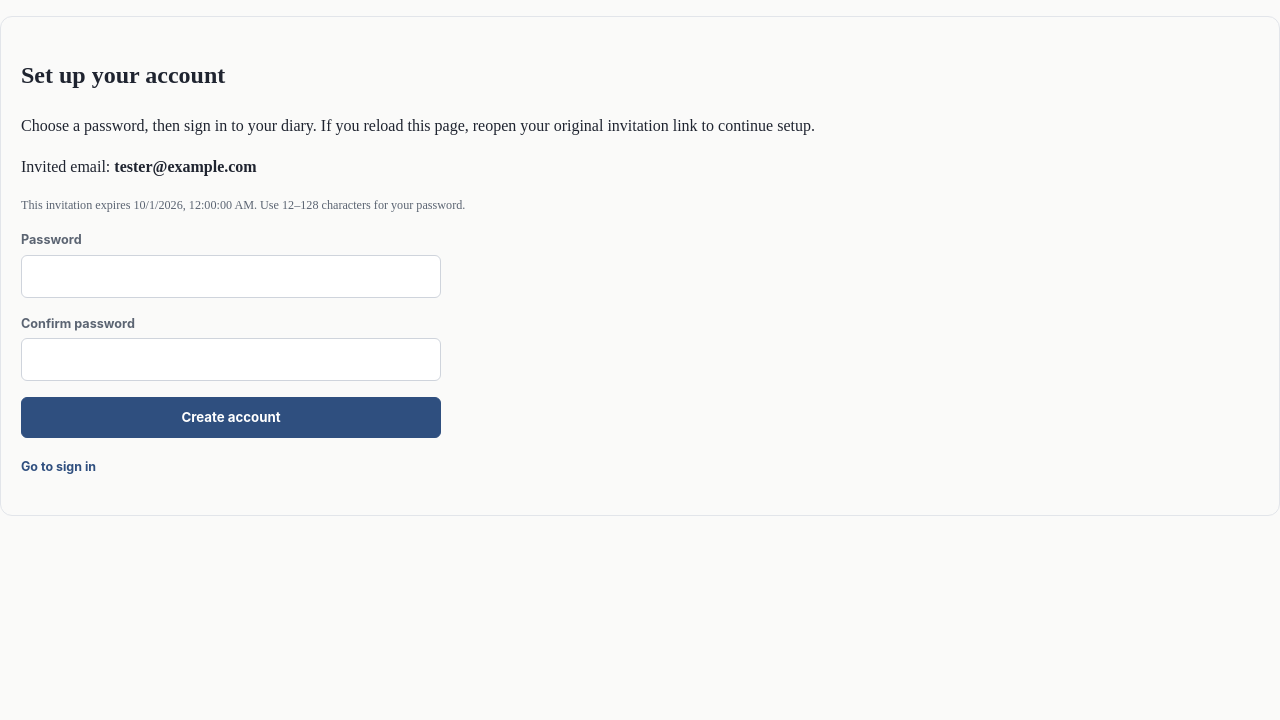
Scenario: validates password length and confirmation before accepting
Expected: the button "Create account" is shown, [21, 397, 441, 438]
Type "short" into the password field labelled "Password" at [231, 276], box [21, 255, 441, 298]
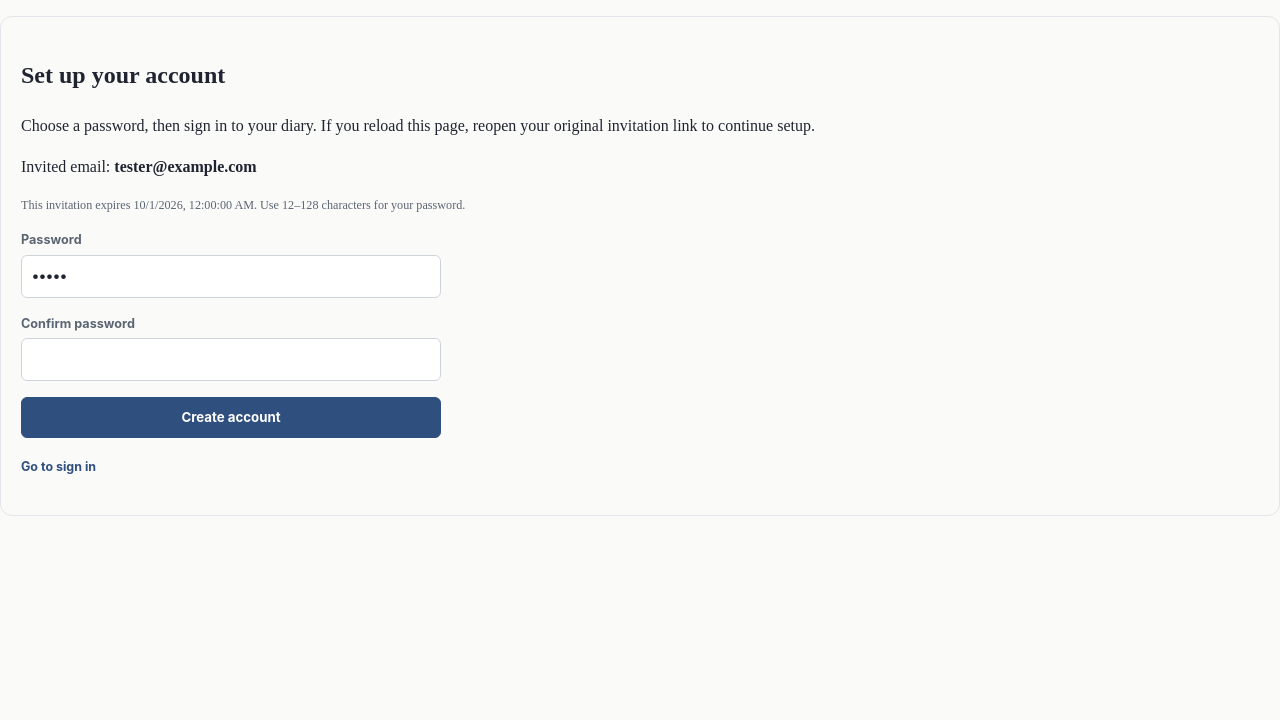
Type "short" into the password field labelled "Confirm password" at [231, 360], box [21, 338, 441, 381]
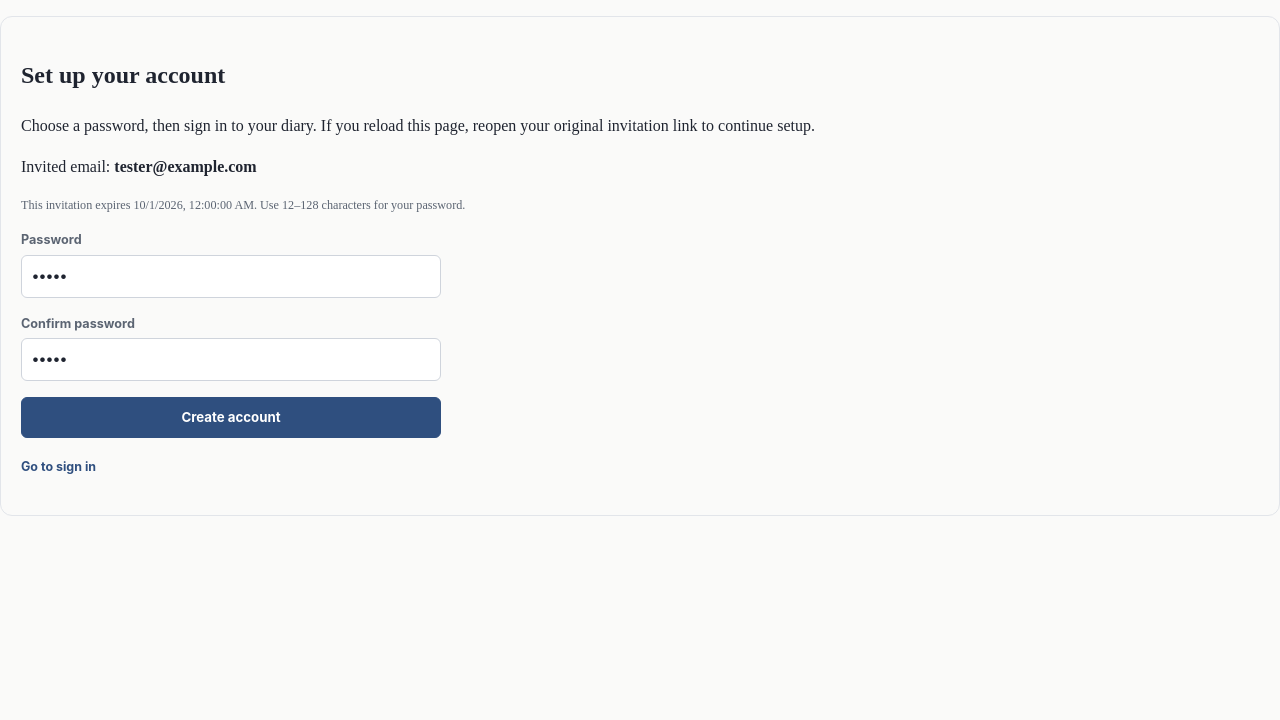
Submit the form "Create account", box [21, 230, 441, 438]
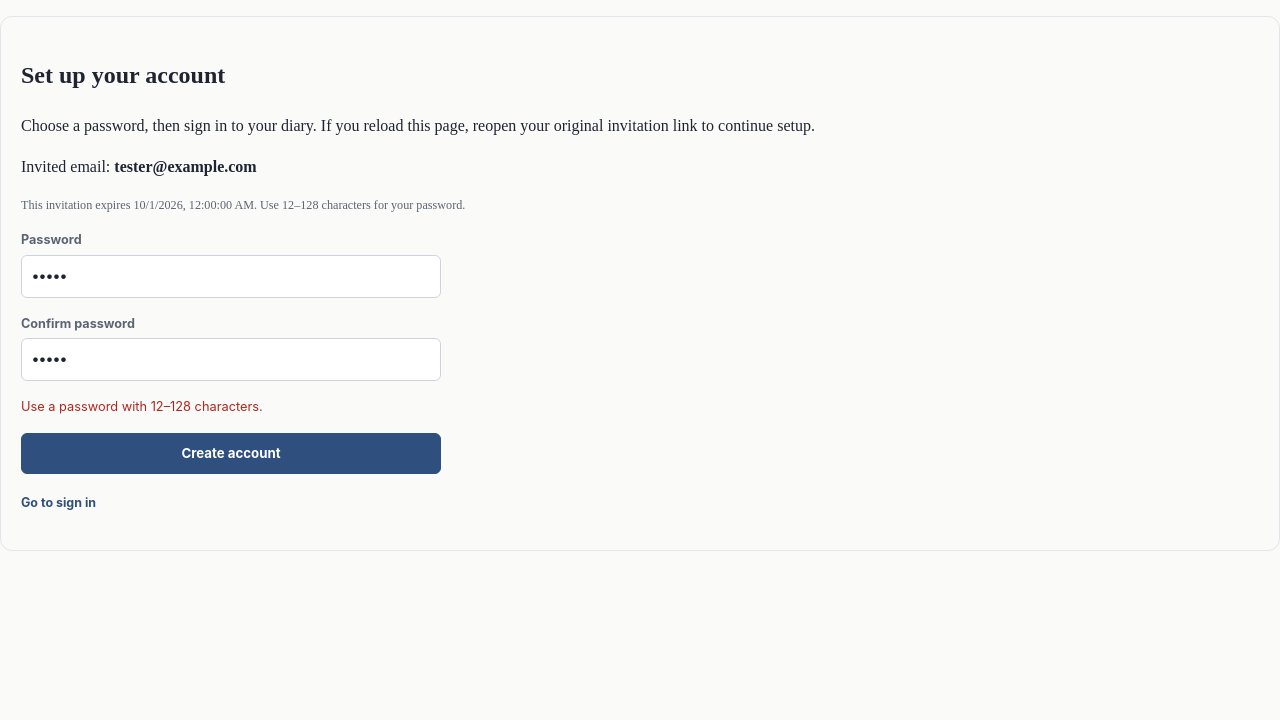
Expected: the message shows "12–128 characters", [21, 399, 263, 414]
Type "a long password" into the password field labelled "Password" at [231, 276], box [21, 255, 441, 298]
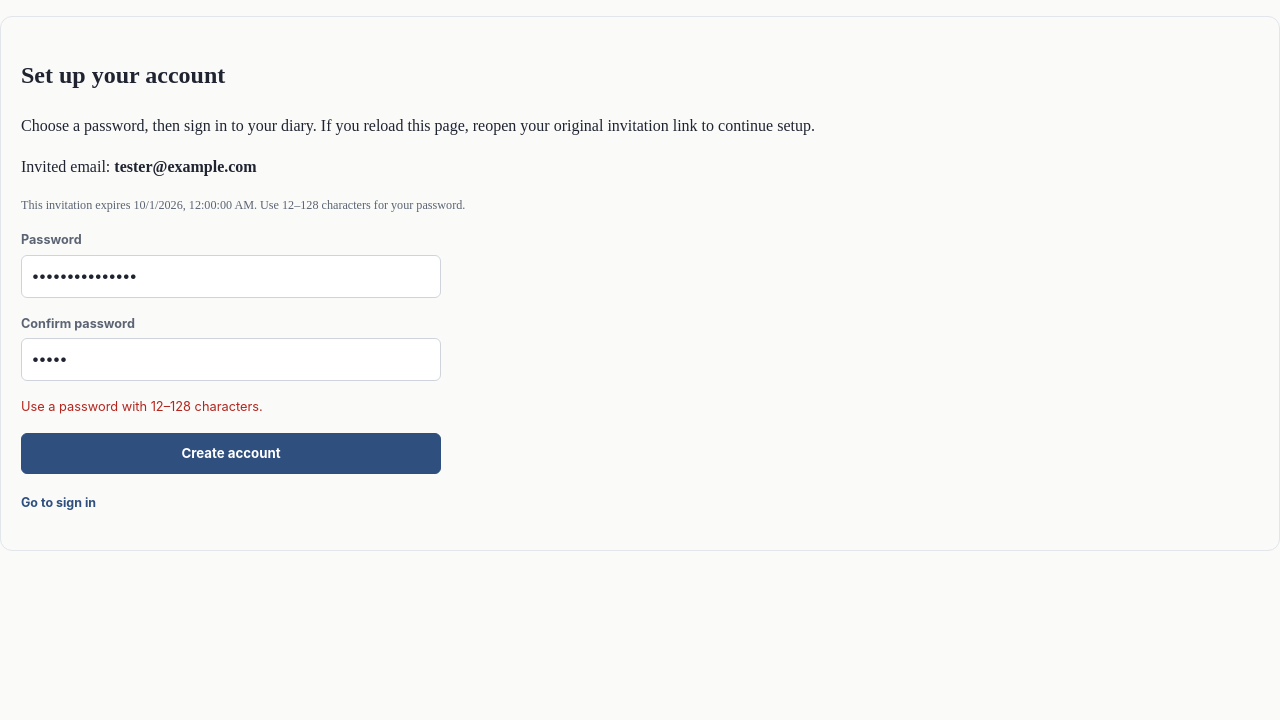
Type "another password" into the password field labelled "Confirm password" at [231, 360], box [21, 338, 441, 381]
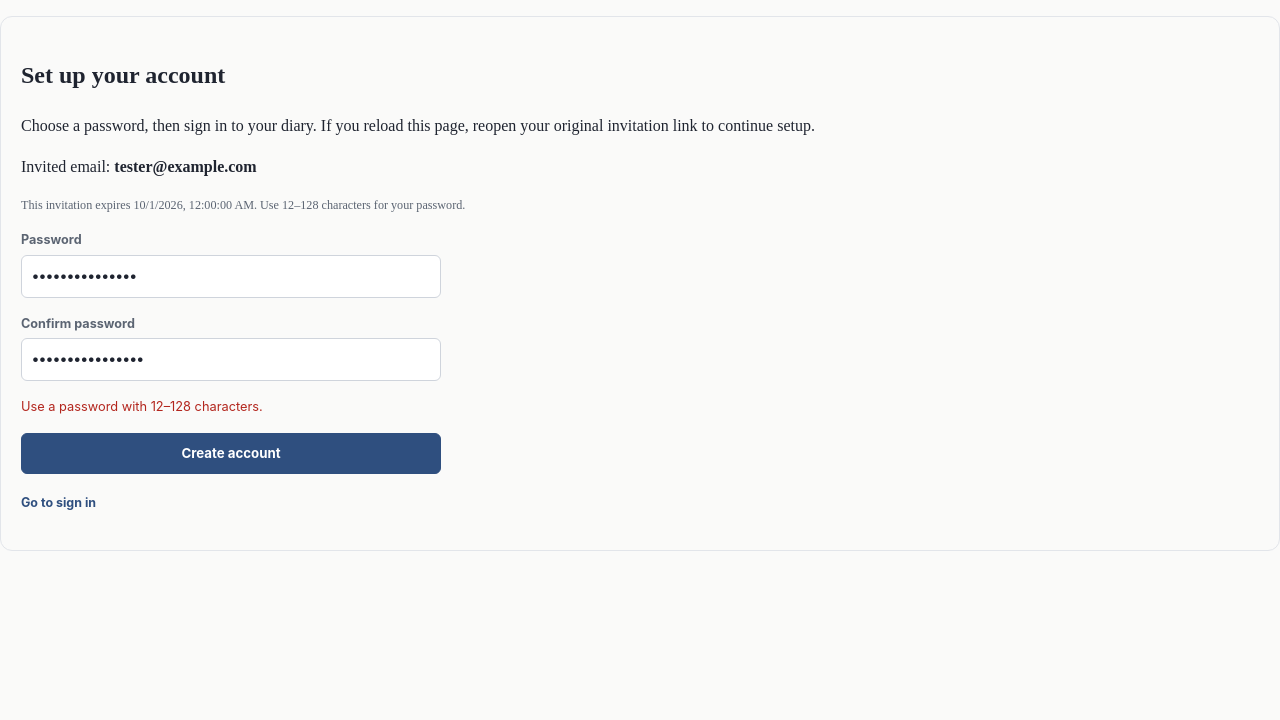
Submit the form "Create account", box [21, 230, 441, 474]
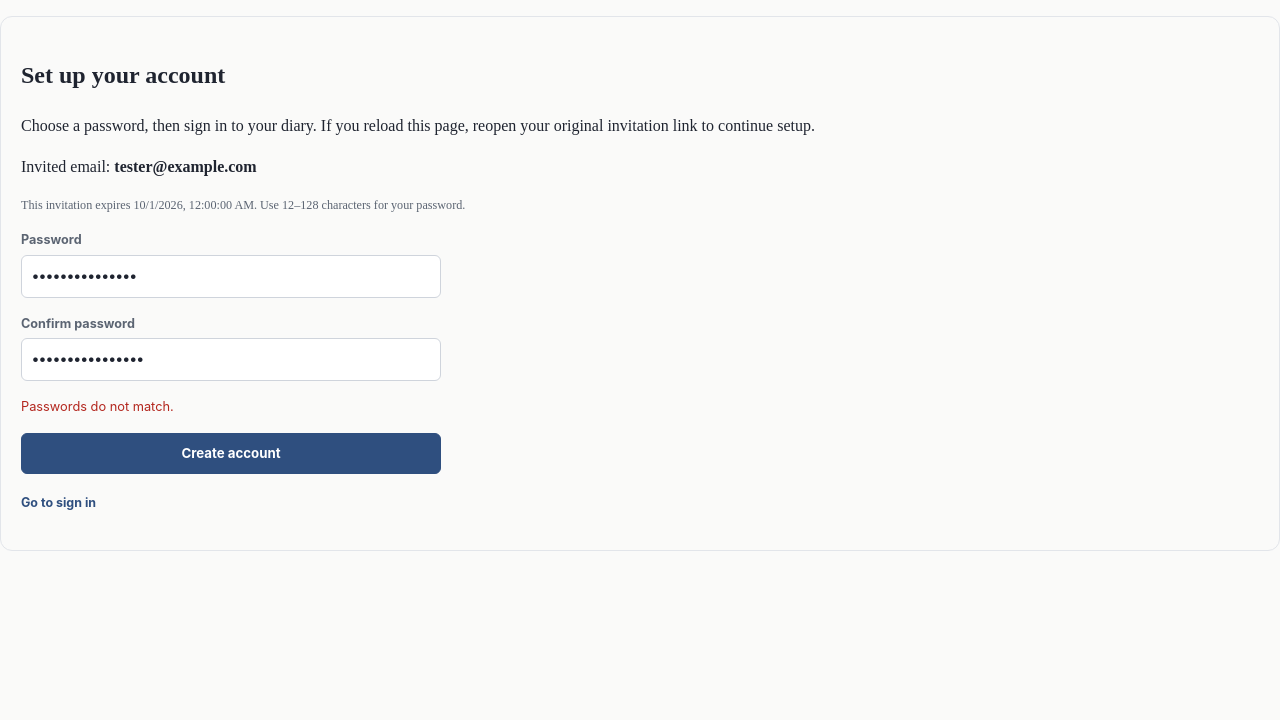
Expected: the message shows "Passwords do not match", [21, 399, 174, 414]
